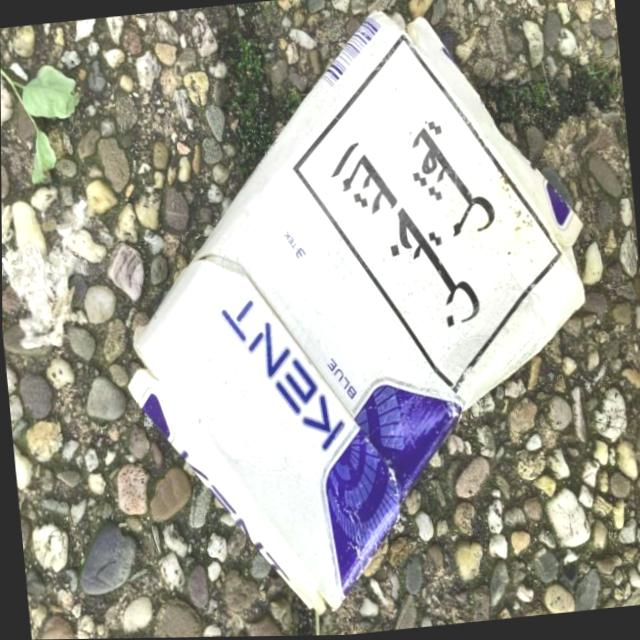Paper: (85, 0, 626, 633)
